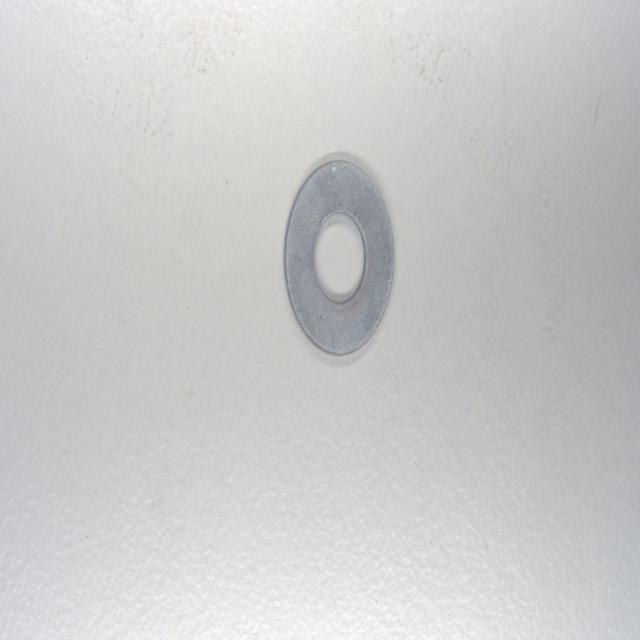washer: (282, 154, 396, 362)
